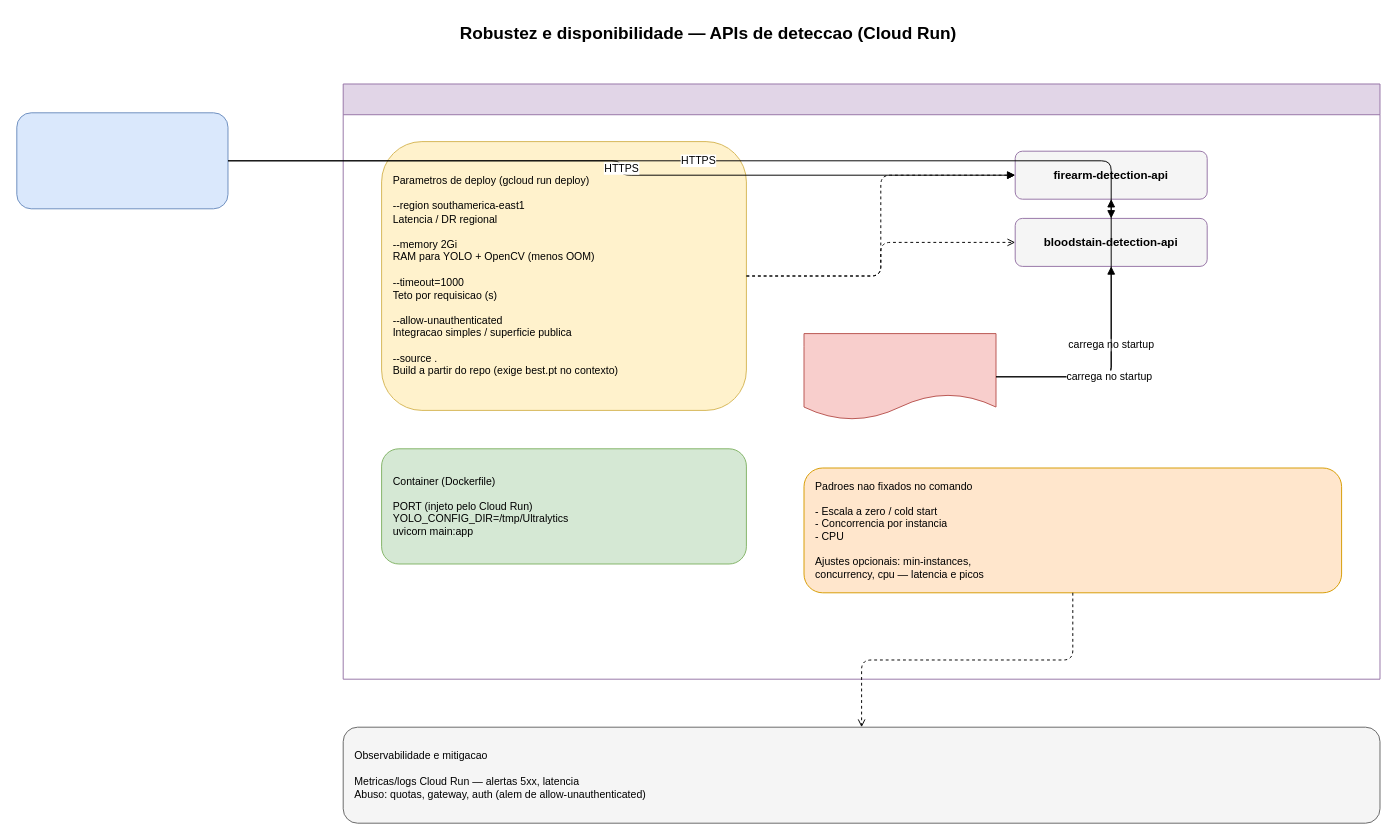
Image size: 1397x840. Some labels were removed from this diagram. Each missing label, with the box of its shape:
best.pt (obrigatorio no build/runtime): (803, 333, 996, 420)
Google Cloud Run (deploy parametrizado): (342, 83, 1380, 679)
Lawdo (cliente) POST multipart timeout/retry no cliente: (16, 112, 228, 209)
